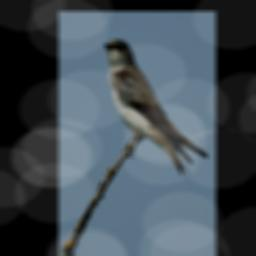Swallow: (104, 39, 208, 177)
